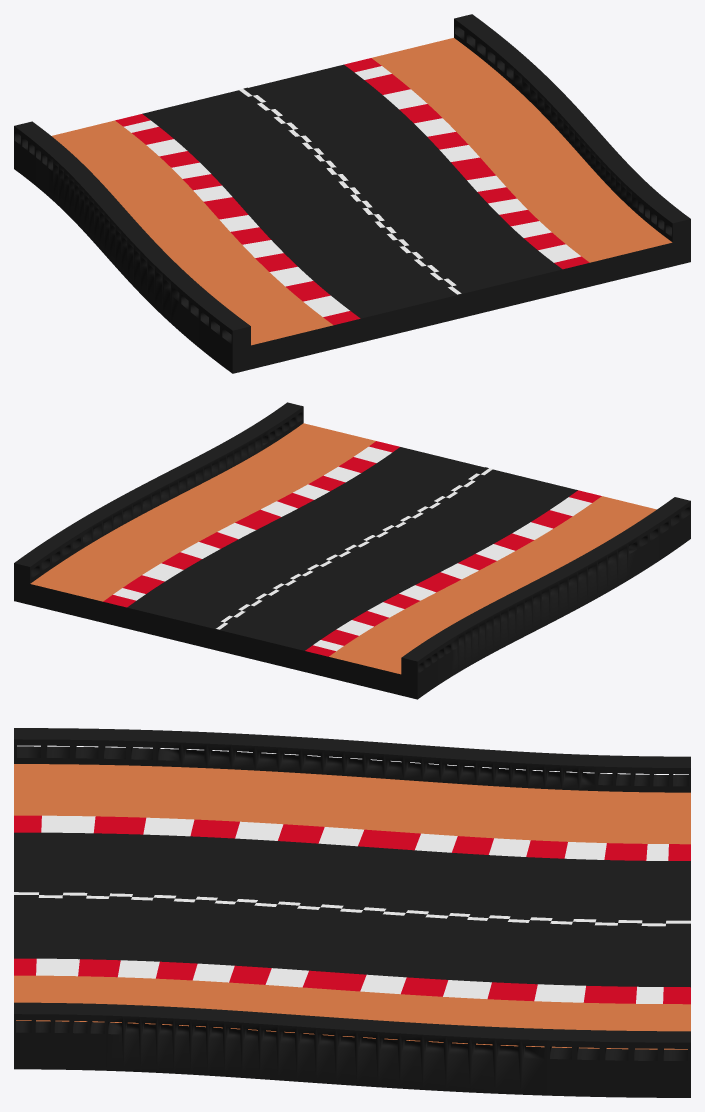
The model's file is ModularTrackCantSmallRight-Deux.fbx.
The picture shows the model from 3 angles, top to bottom: view 1: azimuth 30°, elevation 25°; view 2: azimuth 150°, elevation 25°; view 3: azimuth 270°, elevation 25°; orthographic projection. The views are drawn at different scales.
Parts seen in each view (by area): view 1: ModularTrackCantSmallRight, LaneDivider; view 2: ModularTrackCantSmallRight, LaneDivider; view 3: ModularTrackCantSmallRight, LaneDivider.
Part boxes in pixels (x1,y1,x2,y2): ModularTrackCantSmallRight: (14,14,690,373); LaneDivider: (239,87,465,294); ModularTrackCantSmallRight: (14,402,690,699); LaneDivider: (212,467,492,629); ModularTrackCantSmallRight: (14,728,690,1097); LaneDivider: (14,892,690,926).
Size of the model in its own units: 1100 by 90 by 1000.
